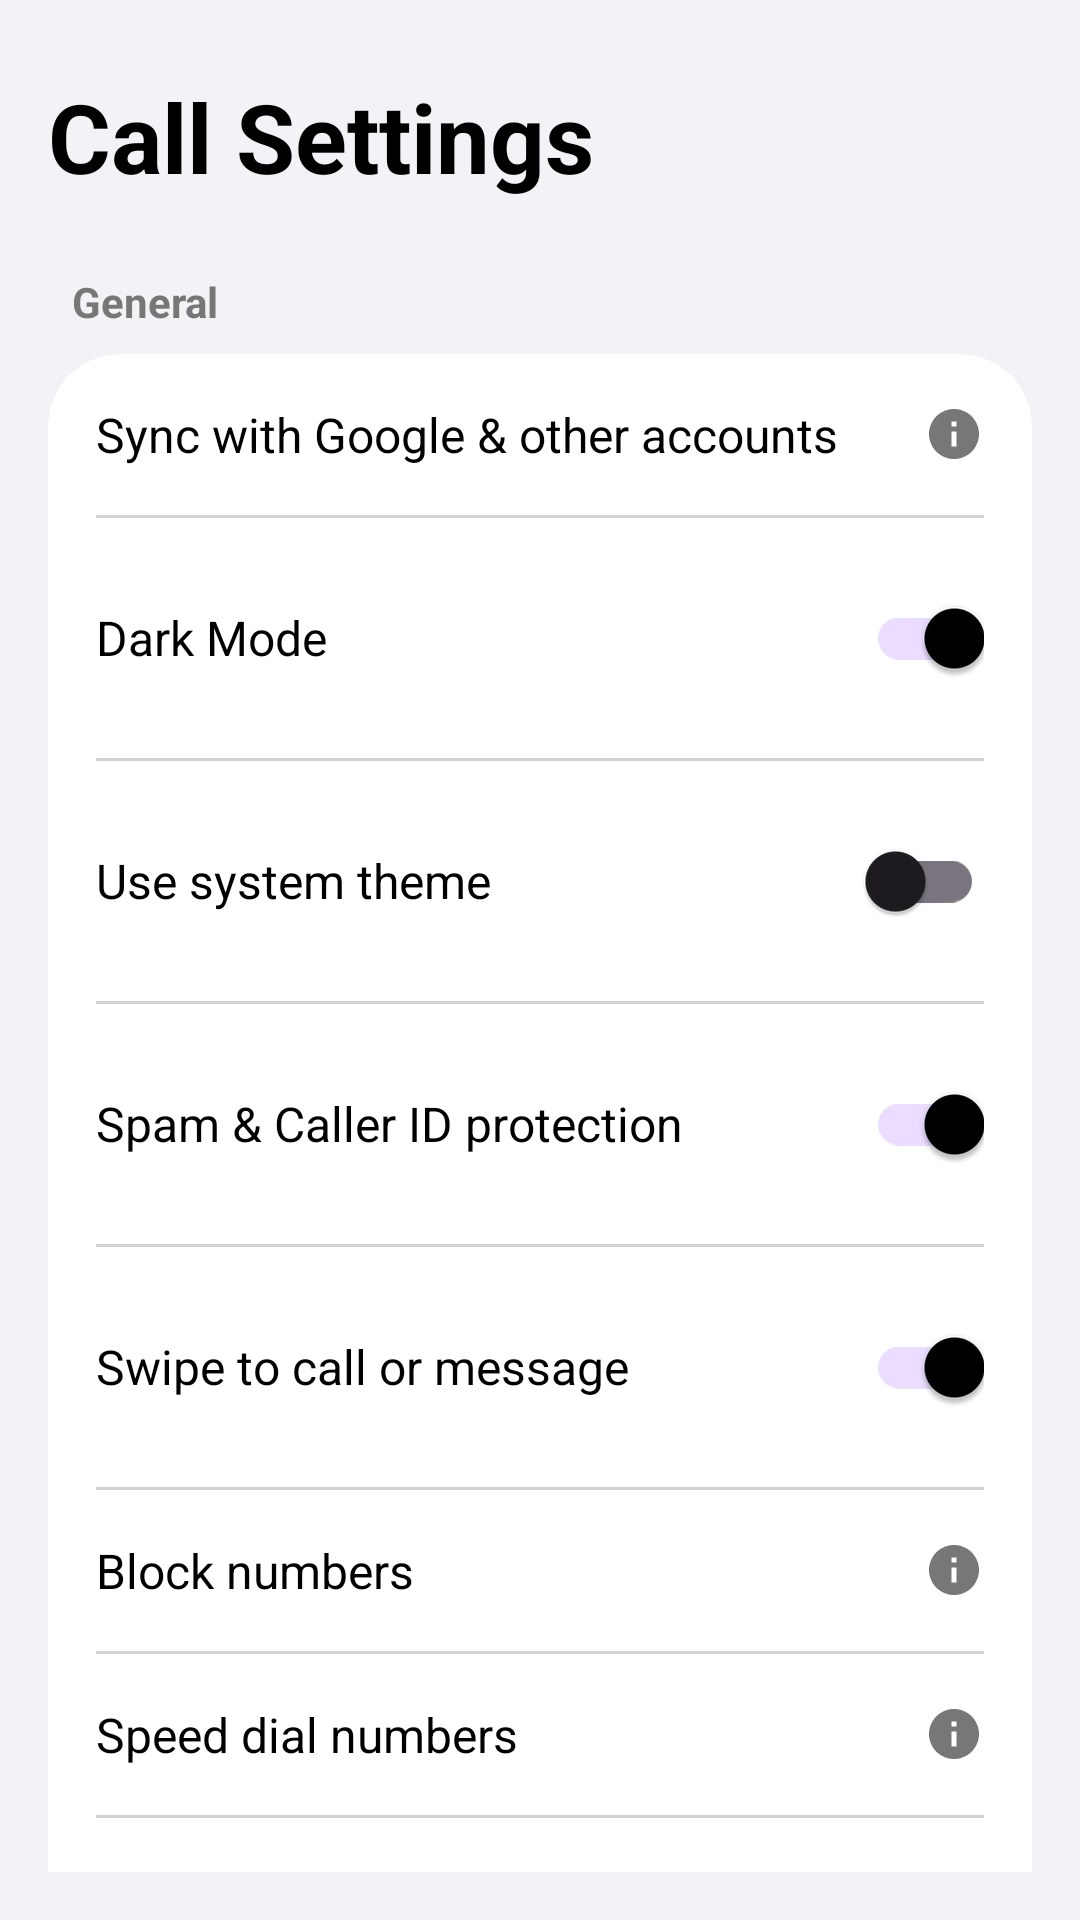

Locate icon controls on the screen. Image size 1080 × 1920, boxes as bbox=[x1, y1, x2, y2].
info: bbox=[929, 409, 979, 459], bbox=[929, 1545, 979, 1595], bbox=[929, 1709, 979, 1759]
